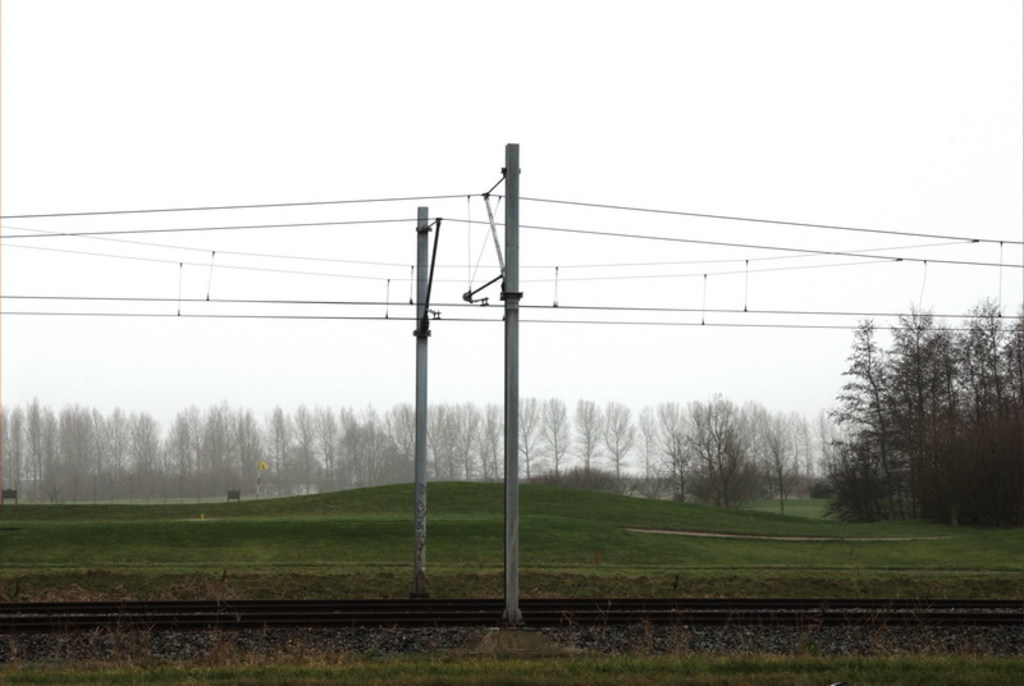Tree: (0, 396, 856, 510), (810, 307, 1022, 526)
